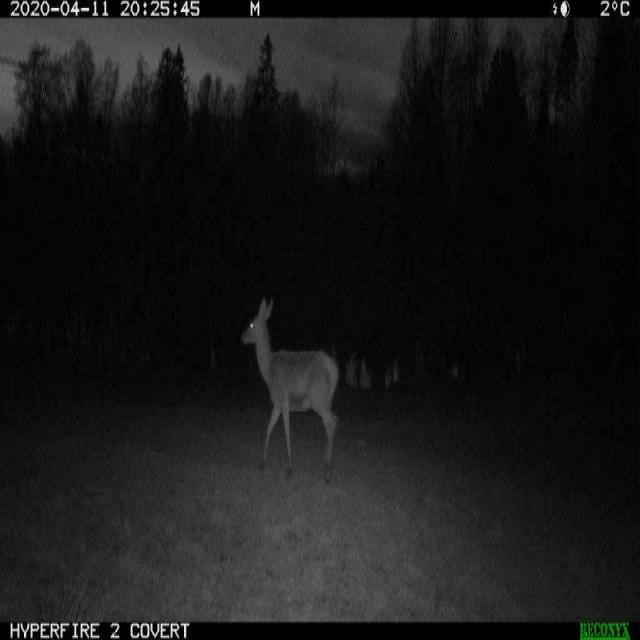deer: (232, 277, 346, 488)
